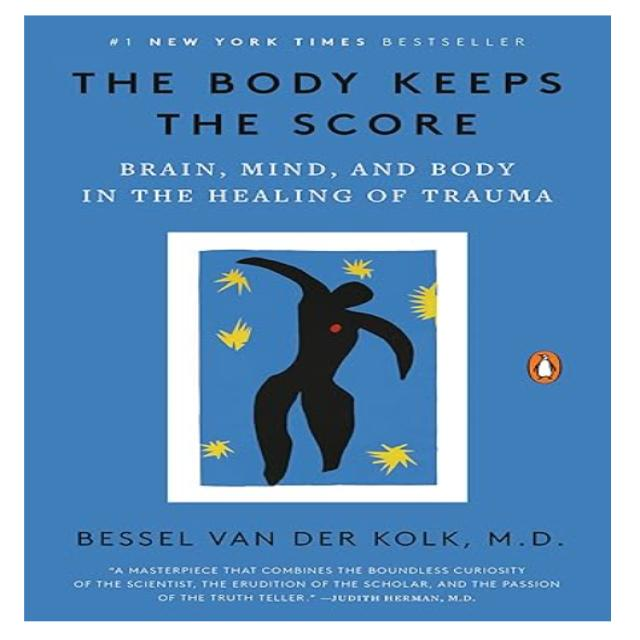titles-or-authors: (63, 64, 575, 144), (68, 524, 570, 553)
